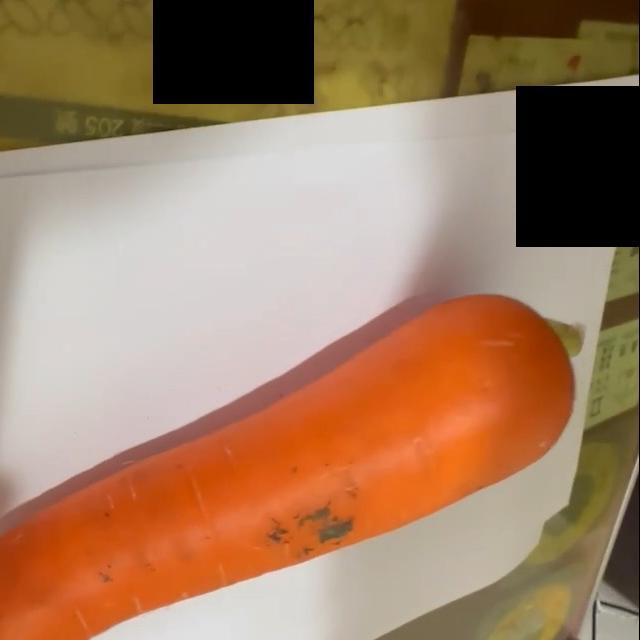carrot: (1, 293, 587, 640)
